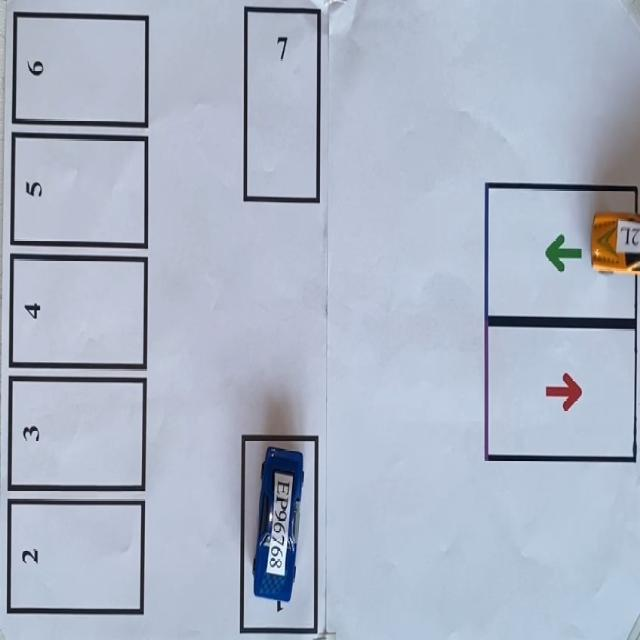car: (253, 448, 303, 610), (591, 212, 639, 274)
